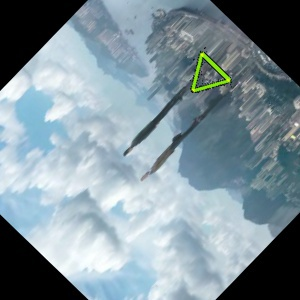triangle: (189, 47, 232, 95)
